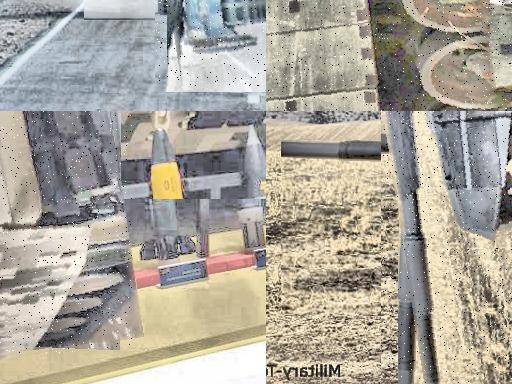tanks: (1, 112, 132, 355), (267, 1, 500, 112), (389, 112, 442, 384), (428, 112, 512, 238), (167, 1, 267, 87)
